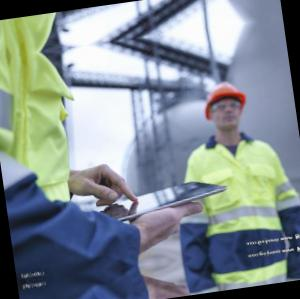helmet: (197, 71, 258, 143)
